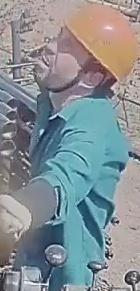gloves: (0, 193, 42, 262)
helmet: (62, 3, 138, 84)
vest: (24, 93, 132, 279)
